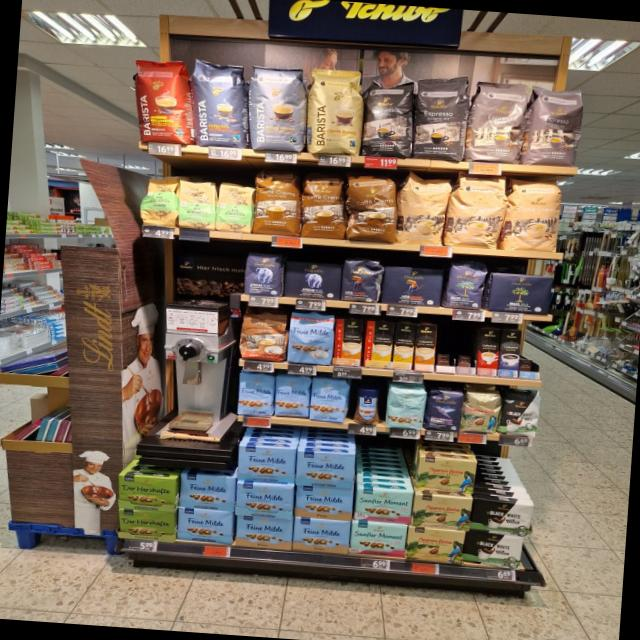AB Bohne: (240, 250, 283, 297)
AB Gemahlen: (283, 258, 343, 301)
Athiopien Bohne: (140, 174, 180, 228)
Athiopien Gemahlen: (215, 180, 254, 233), (176, 180, 217, 230)
BM Bohne: (445, 262, 488, 312)
BM Gemahlen: (486, 270, 554, 315)
BW Bohne: (501, 389, 542, 439)
BW Gemahlen: (470, 496, 538, 536), (464, 528, 525, 568)
Barista CB: (305, 66, 365, 156)
Barista CC: (246, 63, 310, 154)
Barista Espresso: (186, 57, 252, 149)
Barista Kolumbien: (127, 54, 199, 143)
C Fino Bohne: (426, 385, 464, 433)
CC Mild: (448, 170, 510, 250), (502, 175, 564, 252), (395, 170, 452, 247)
CC Vollmundig: (237, 310, 289, 363)
CC Vollmundig 36 Pads: (343, 173, 400, 245), (251, 170, 303, 238), (298, 172, 348, 240)
Colombia BB Bohne: (462, 388, 502, 434)
Colombia BB Gemahlen: (416, 454, 476, 496), (412, 491, 472, 531), (405, 526, 465, 564)
Empty Shelf: (435, 324, 457, 366), (457, 326, 478, 367)
Espresso Kraftig: (359, 76, 416, 158)
Espresso M Art: (466, 77, 528, 164), (525, 81, 587, 168)
Espresso S Art: (410, 74, 470, 162)
FM 36 Pads: (286, 310, 334, 366)
FM Bohne: (234, 370, 276, 418), (308, 376, 349, 422), (272, 372, 312, 419)
FM Gemahlen: (234, 444, 298, 484), (292, 448, 356, 488), (177, 472, 236, 512), (174, 508, 234, 546), (234, 482, 294, 520), (294, 485, 354, 522), (293, 516, 350, 554), (234, 514, 294, 550)
FM Instant: (352, 384, 382, 426)
Herzhatfe Mundig: (113, 473, 178, 513), (115, 507, 176, 543)
LG Bohne: (340, 258, 384, 304)
LG Gemahlen: (380, 263, 444, 308)
SM Bohne: (386, 384, 426, 430)
SM Gemahlen: (354, 487, 414, 524), (350, 520, 408, 557)
Simo CCMild: (363, 320, 393, 368)
Simo CCMild bigpack: (392, 322, 415, 370)
Simo CCVollmundig: (333, 318, 363, 366)
Simo CCVollmundig bigpack: (413, 323, 437, 372)
Simo Es Brazil: (476, 326, 499, 376)
Simo Es Kraft: (498, 329, 521, 377)
